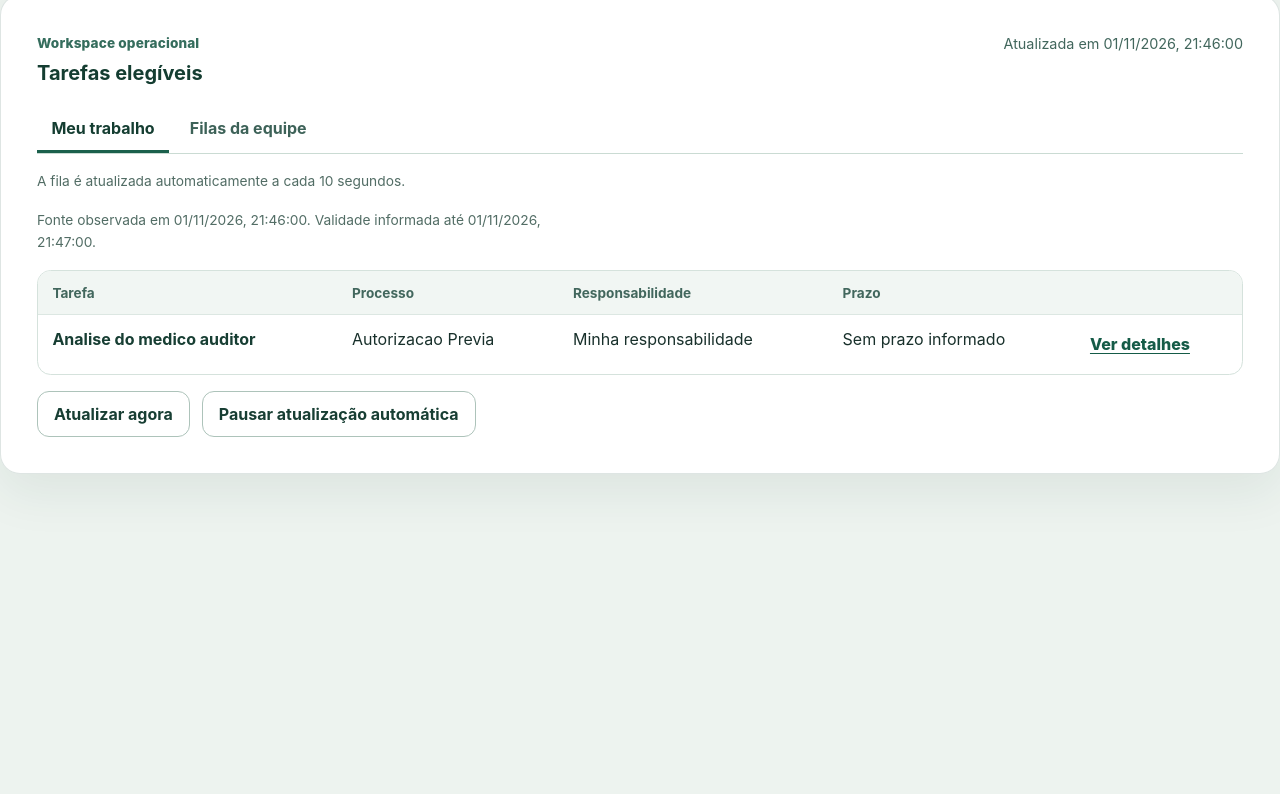
Scenario: abre decisão a partir da consulta Q1 sem presumir ação no snapshot
The width and height of the screenshot is (1280, 794).
Step 1. Click the button "Ver detalhes" → (1140,344), box [1090,329,1190,360]
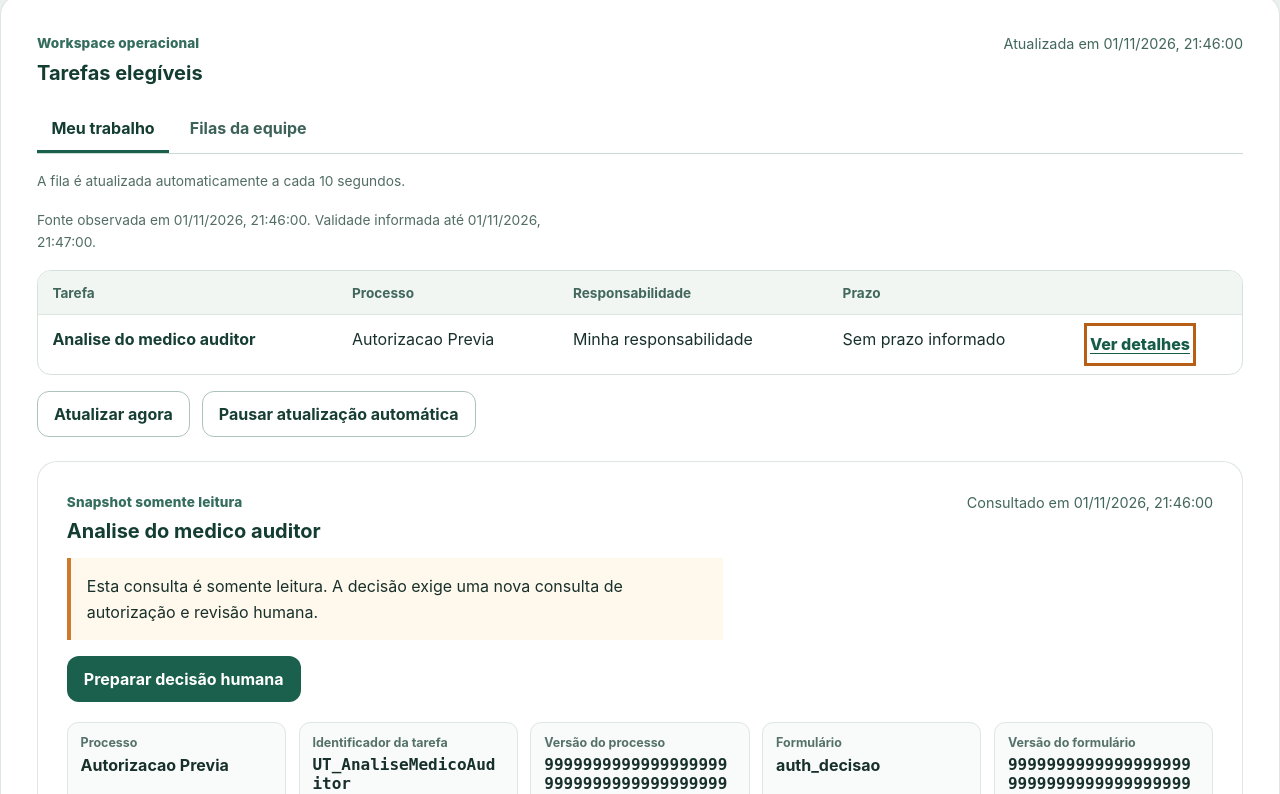
Step 2. Click the button "Preparar decisão humana" → (184,679), box [67,656,300,702]
(page scrolled)
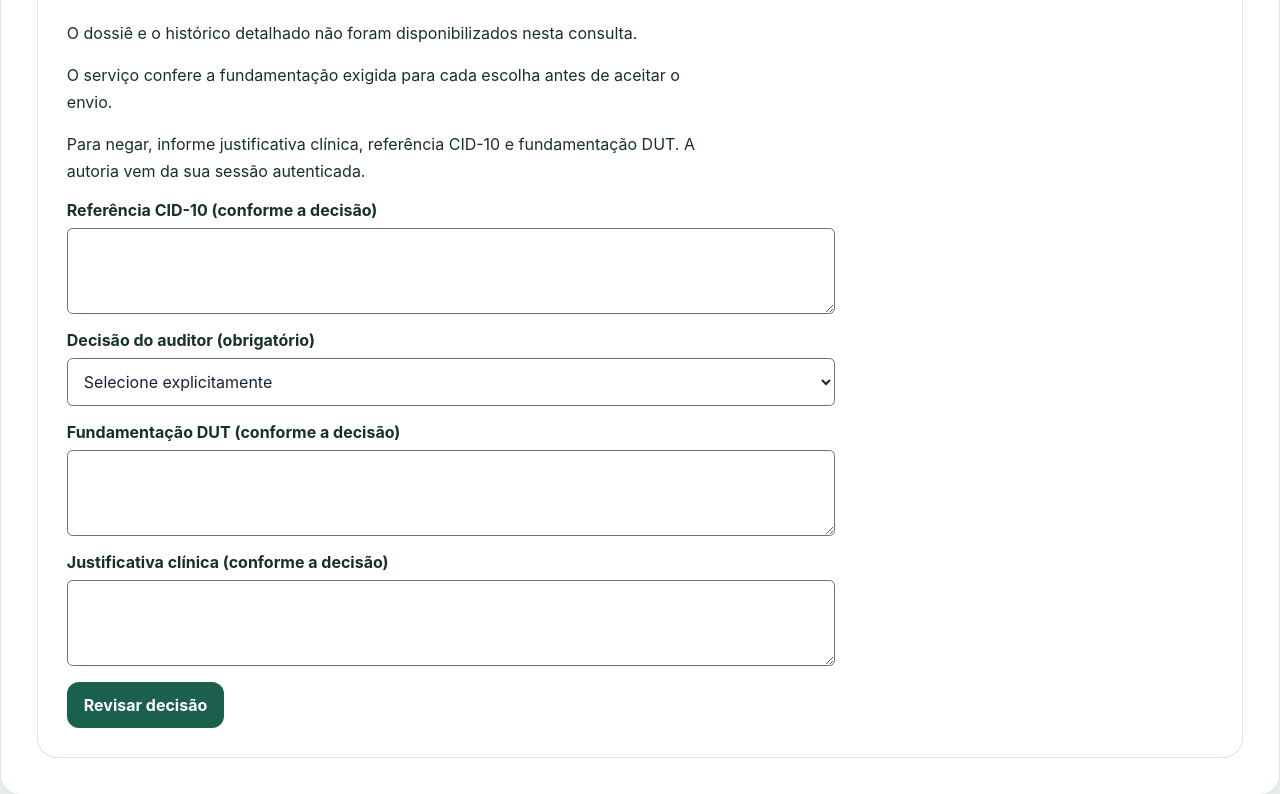
Result: the button "Revisar decisão" is shown at [67,682,224,728]
